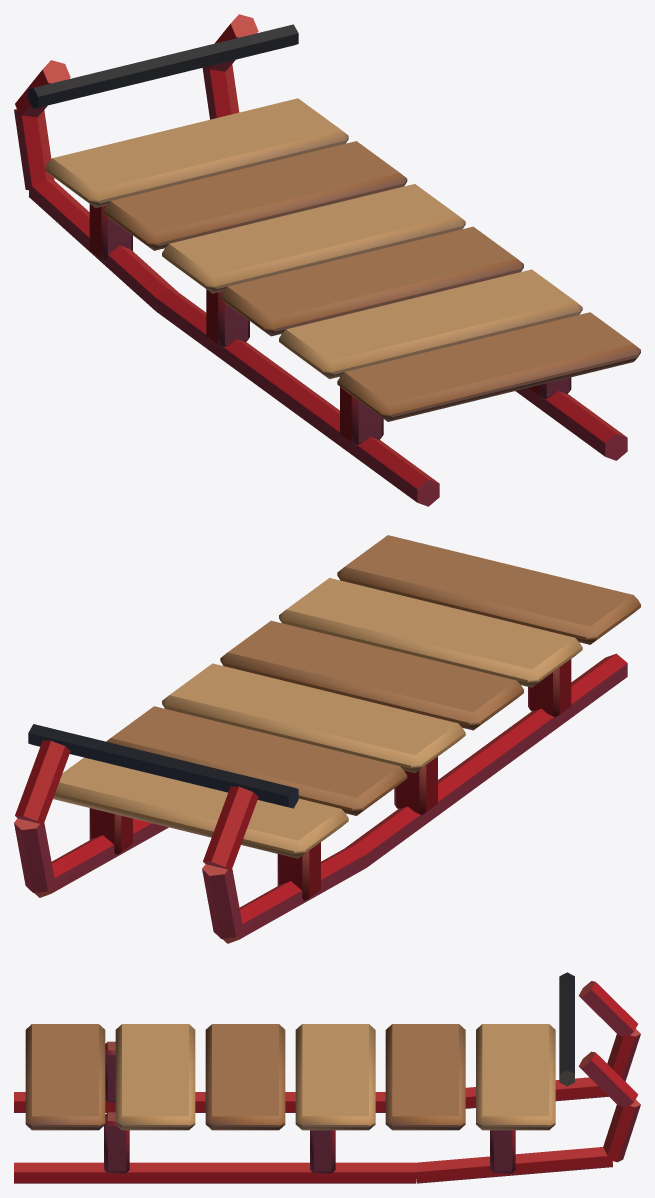
File: Sled.fbx
The picture shows the model from 3 angles, top to bottom: view 1: azimuth 30°, elevation 25°; view 2: azimuth 150°, elevation 25°; view 3: azimuth 270°, elevation 25°; orthographic projection. The views are drawn at different scales.
Parts seen in each view (by area): view 1: SM_Xmas_Sled; view 2: SM_Xmas_Sled; view 3: SM_Xmas_Sled.
Part boxes in pixels (x1,y1,x2,y2): SM_Xmas_Sled: [14, 14, 640, 506]; SM_Xmas_Sled: [14, 535, 640, 943]; SM_Xmas_Sled: [14, 972, 640, 1183].
Size of the model in its own units: 1.8 by 1.13 by 4.87.
